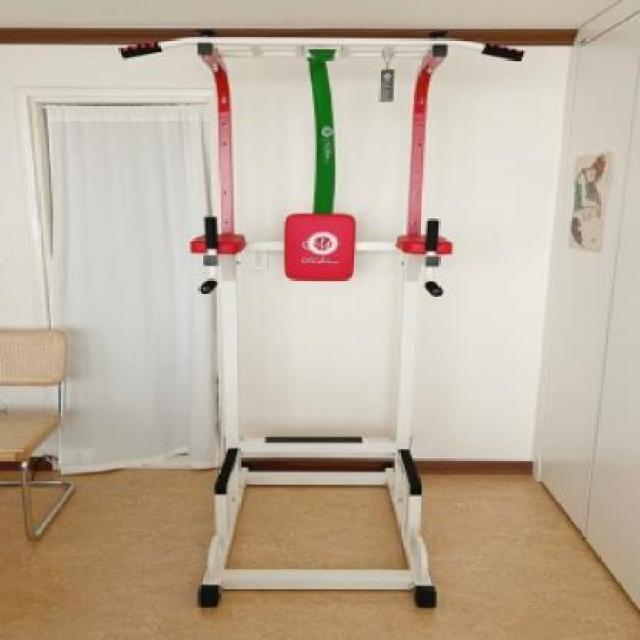chinning dipping: (119, 31, 526, 611)
